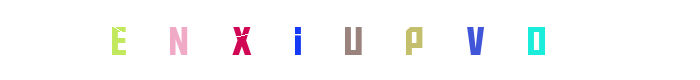E: (177, 0, 257, 80)
I: (258, 0, 338, 80)
N: (201, 0, 281, 80)
O: (496, 0, 576, 80)
P: (310, 0, 390, 80)
U: (307, 0, 387, 80)
V: (432, 0, 512, 80)
X: (235, 0, 315, 80)
